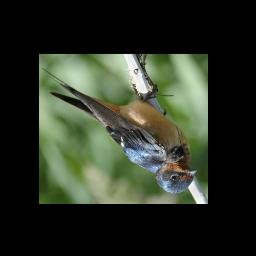Swallow: (41, 66, 199, 194)
